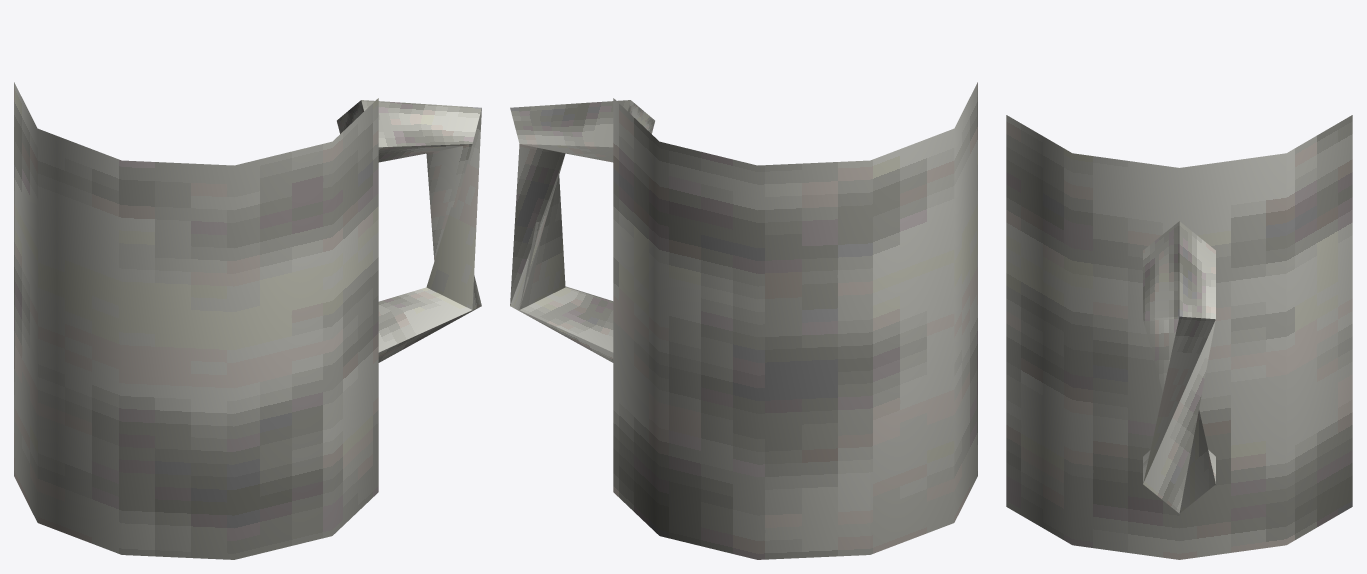
Rendered from mug.glb.
The picture shows the model from 3 angles, left to right: view 1: azimuth 30°, elevation 25°; view 2: azimuth 150°, elevation 25°; view 3: azimuth 270°, elevation 25°; orthographic projection.
Visible parts, largest first — view 1: mug; view 2: mug; view 3: mug.
Part boxes in pixels (<box>): mug: <box>14,82,481,559</box>; mug: <box>510,82,977,559</box>; mug: <box>1006,115,1352,559</box>.
Bounding box in the file's own units: 0.112 × 0.095 × 0.0761.
Materials: 1 (1 with a texture image).
